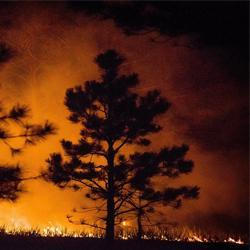fire: (6, 214, 68, 237)
